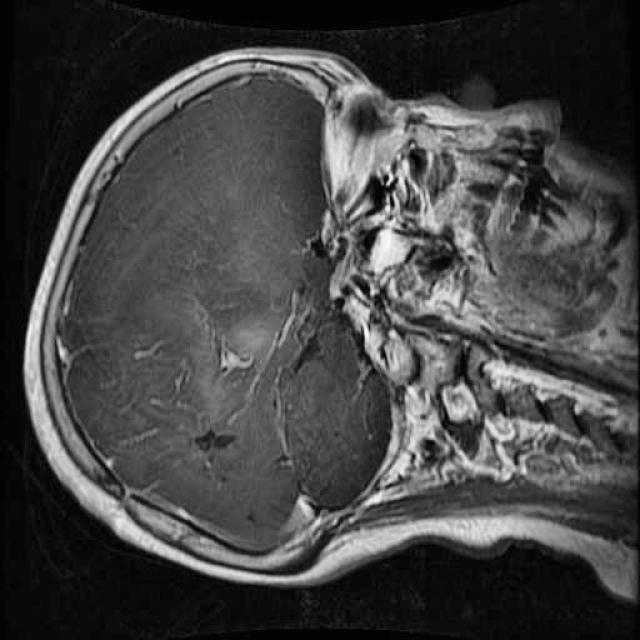Tumor: (176, 415, 252, 469)
